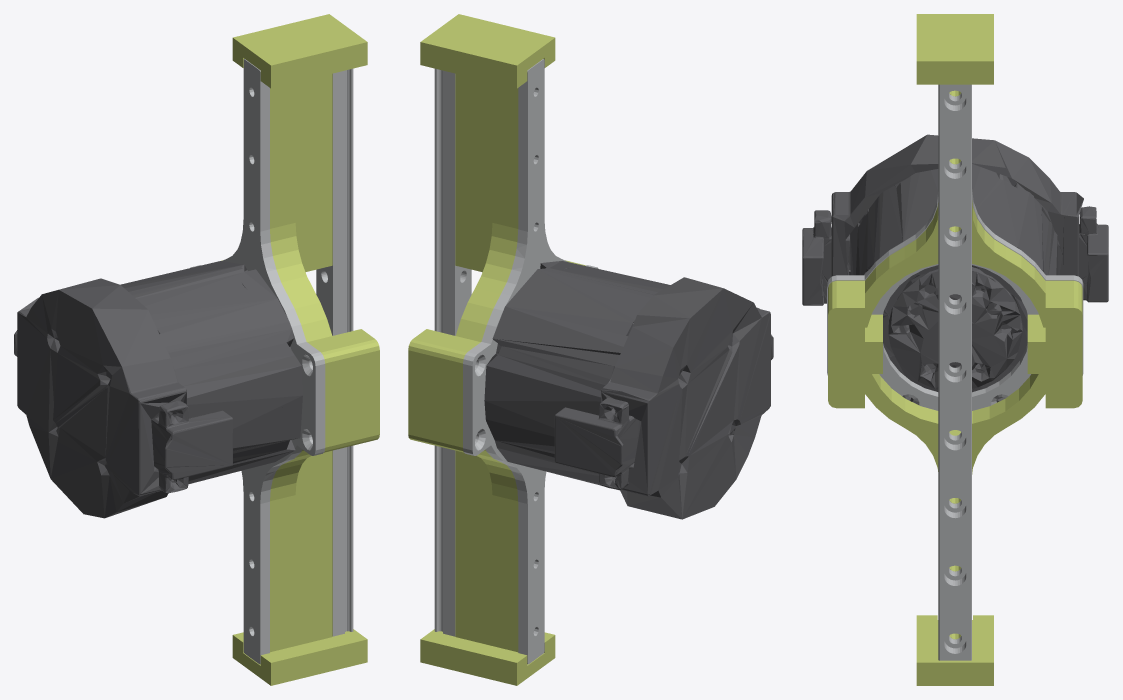
The model's file is gripper_end.glb.
3 renders of one model, left to right at view 1: azimuth 30°, elevation 25°; view 2: azimuth 150°, elevation 25°; view 3: azimuth 270°, elevation 25°, orthographic.
Parts seen in each view (by area): view 1: motor_7, pla7_green, cnc7; view 2: motor_7, pla7_green, cnc7; view 3: motor_7, pla7_green, cnc7.
Boxes of the visible parts, box(x1,y1,x2,y2) form: motor_7: box(14, 261, 302, 518); pla7_green: box(221, 14, 379, 685); cnc7: box(190, 59, 353, 664); motor_7: box(484, 261, 773, 519); pla7_green: box(408, 14, 585, 685); cnc7: box(434, 59, 598, 664); motor_7: box(802, 134, 1108, 402); pla7_green: box(828, 14, 1082, 685); cnc7: box(827, 84, 1083, 660).
Bounding box in the file's own units: 0.084 × 0.1841 × 0.0818.
